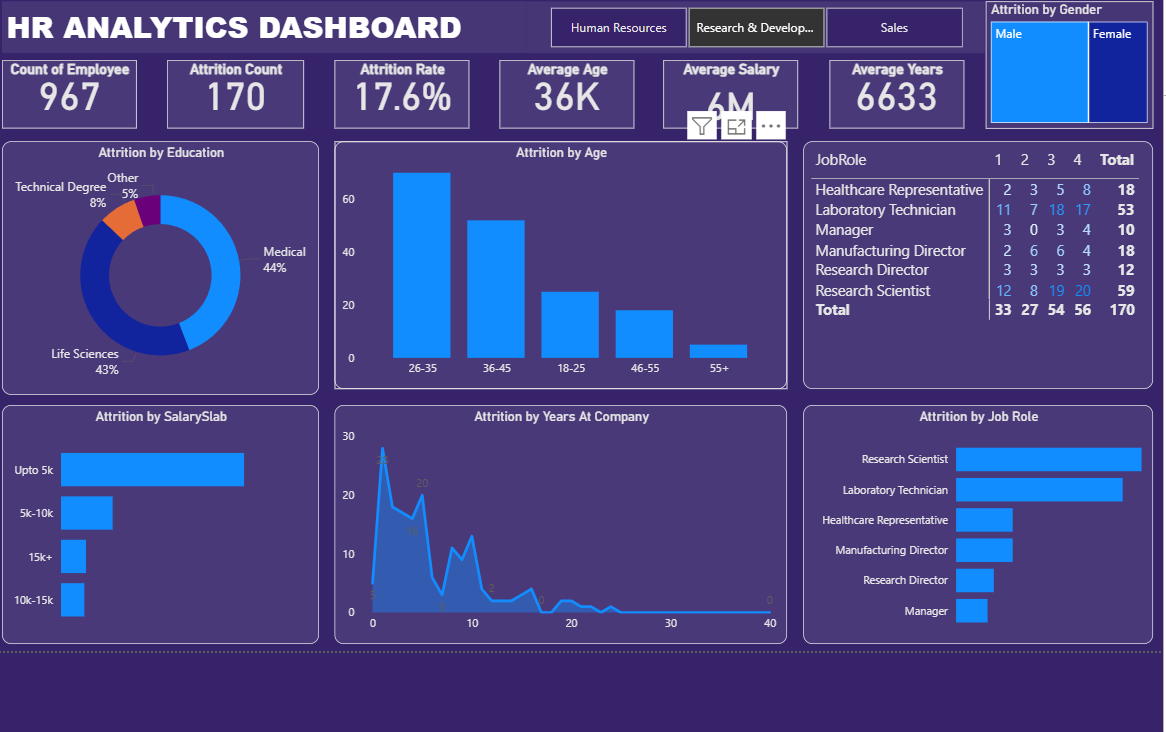

The dashboard page shown, as its layout file describes it:
{"tool":"powerbi","page":{"name":"Page 1","canvas":[1280,720],"ordinal":0},"visuals":[{"type":"textbox","box":[5,7,576,57],"z":0},{"type":"slicer","fields":{"Values":["HR_Analytics.Department"]},"box":[582,7,502,57],"z":1000},{"type":"treemap","title":"Attrition by Gender","fields":{"Group":["HR_Analytics.Gender"],"Values":["Sum(HR_Analytics.AttritionCount)"]},"box":[1085,7,184,140],"z":2000},{"type":"card","title":"Count of Employee","fields":{"Values":["Sum(HR_Analytics.EmployeeCount)"]},"box":[5.5,71,148,75],"z":3000},{"type":"card","title":"Attrition Count ","fields":{"Values":["Sum(HR_Analytics.AttritionCount)"]},"box":[187,71.4,150,75.5],"z":4000},{"type":"card","title":"Attrition Rate","fields":{"Values":["HR_Analytics.AttritionRate"]},"box":[370,71.4,148.2,75.5],"z":5000},{"type":"card","title":"Average Age","fields":{"Values":["Sum(HR_Analytics.Age)"]},"box":[551,71.4,148.2,75.5],"z":6000},{"type":"card","title":"Average Salary","fields":{"Values":["Sum(HR_Analytics.MonthlyIncome)"]},"box":[732,71.4,148.2,75.5],"z":7000},{"type":"card","title":"Average Years","fields":{"Values":["Sum(HR_Analytics.YearsAtCompany)"]},"box":[914,71,148,75.5],"z":8000},{"type":"donutChart","title":"Attrition by Education","fields":{"Y":["Sum(HR_Analytics.AttritionCount)"],"Category":["HR_Analytics.EducationField"]},"box":[5,160,348,278],"z":9000},{"type":"columnChart","title":"Attrition by Age","fields":{"Category":["HR_Analytics.AgeGroup"],"Y":["Sum(HR_Analytics.AttritionCount)"]},"box":[370,160,497,272],"z":10000},{"type":"pivotTable","fields":{"Rows":["HR_Analytics.JobRole"],"Columns":["HR_Analytics.JobSatisfaction"],"Values":["Sum(HR_Analytics.AttritionCount)"]},"box":[885,160,384,272],"z":11000},{"type":"barChart","title":"Attrition by SalarySlab","fields":{"Y":["Sum(HR_Analytics.AttritionCount)"],"Category":["HR_Analytics.SalarySlab"]},"box":[5,450,348,262],"z":12000},{"type":"areaChart","title":"Attrition by Years At Company","fields":{"Y":["Sum(HR_Analytics.AttritionCount)"],"Category":["HR_Analytics.YearsAtCompany"]},"box":[370,450,497,262],"z":13000},{"type":"barChart","title":"Attrition by Job Role","fields":{"Y":["Sum(HR_Analytics.AttritionCount)"],"Category":["HR_Analytics.JobRole"]},"box":[885,450,384,262],"z":14000}]}

Visuals, with their boxes in screenshot pixels (x1, y1, x2, y2):
textbox: <bbox>23, 6, 540, 57</bbox>
slicer - HR_Analytics.Department: <bbox>541, 6, 992, 57</bbox>
"Attrition by Gender" treemap: <bbox>993, 6, 1158, 132</bbox>
"Count of Employee" card: <bbox>23, 64, 156, 131</bbox>
"Attrition Count " card: <bbox>186, 64, 321, 132</bbox>
"Attrition Rate" card: <bbox>351, 64, 484, 132</bbox>
"Average Age" card: <bbox>513, 64, 646, 132</bbox>
"Average Salary" card: <bbox>676, 64, 809, 132</bbox>
"Average Years" card: <bbox>839, 64, 972, 132</bbox>
"Attrition by Education" donutChart: <bbox>23, 144, 335, 393</bbox>
"Attrition by Age" columnChart: <bbox>351, 144, 797, 388</bbox>
pivotTable - HR_Analytics.JobRole x HR_Analytics.JobSatisfaction: <bbox>813, 144, 1158, 388</bbox>
"Attrition by SalarySlab" barChart: <bbox>23, 404, 335, 640</bbox>
"Attrition by Years At Company" areaChart: <bbox>351, 404, 797, 640</bbox>
"Attrition by Job Role" barChart: <bbox>813, 404, 1158, 640</bbox>
